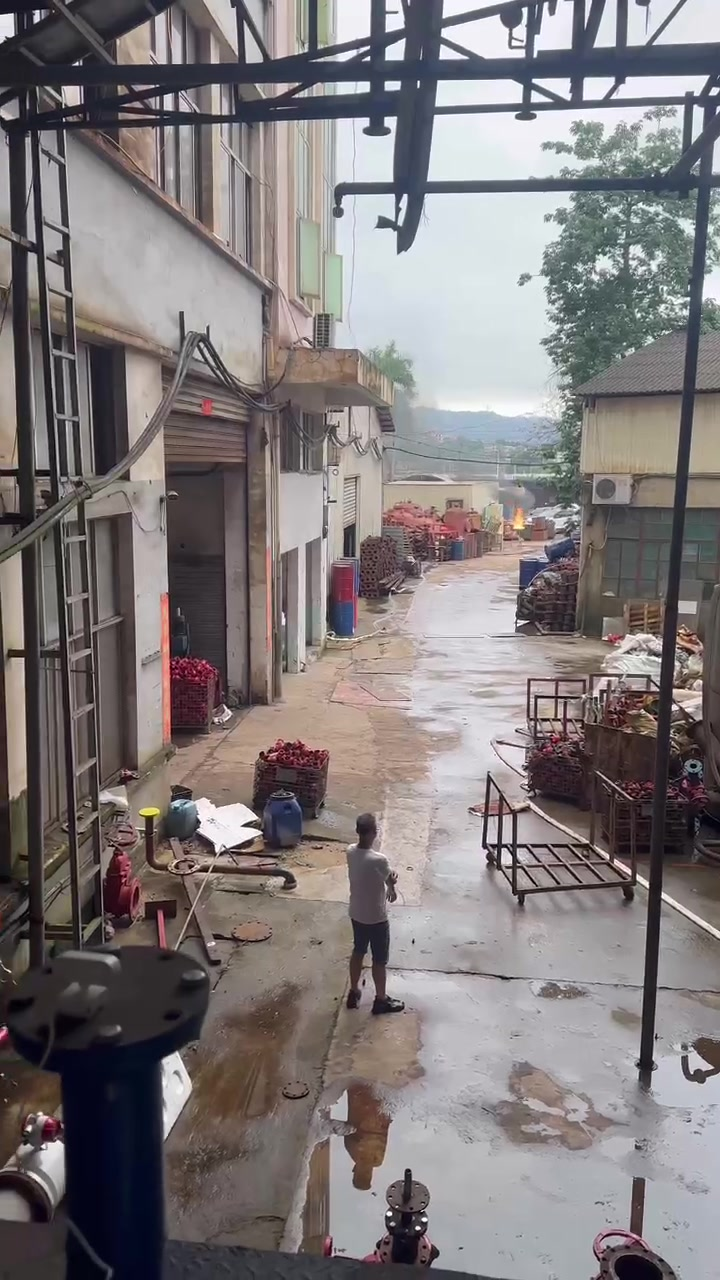fire: (512, 506, 525, 528)
